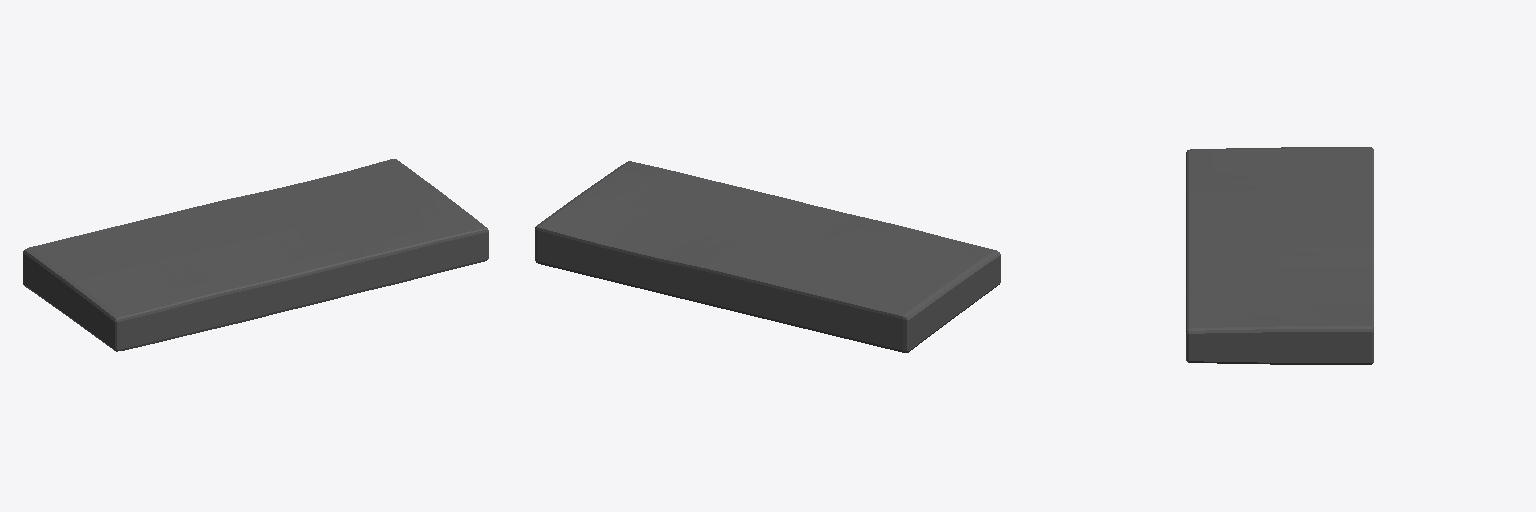
File: couch-bottom.obj
3 renders of one model, left to right at view 1: azimuth 30°, elevation 25°; view 2: azimuth 150°, elevation 25°; view 3: azimuth 270°, elevation 25°, orthographic.
Visible parts, largest first — view 1: 7_bottom_Untitled.005; view 2: 7_bottom_Untitled.005; view 3: 7_bottom_Untitled.005.
Part boxes in pixels (bbox=[...]): 7_bottom_Untitled.005: bbox=[23, 159, 488, 351]; 7_bottom_Untitled.005: bbox=[535, 161, 1000, 352]; 7_bottom_Untitled.005: bbox=[1186, 147, 1373, 364].
Size of the model in its own units: 4.64 by 0.4499 by 2.02.